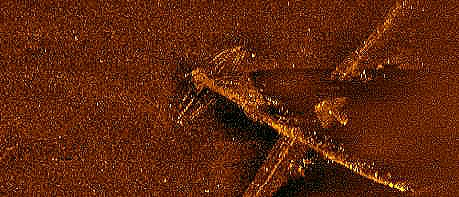aircraft: (171, 0, 414, 196)
